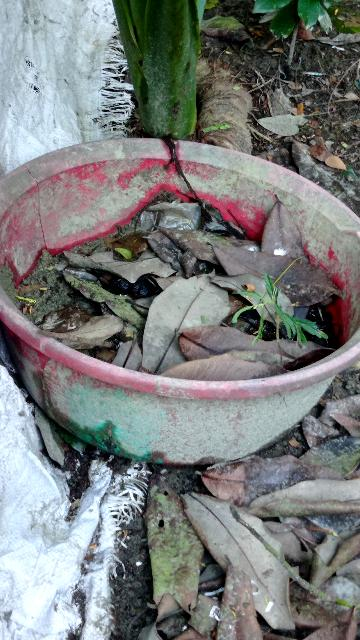hardplastic: (4, 139, 356, 462)
